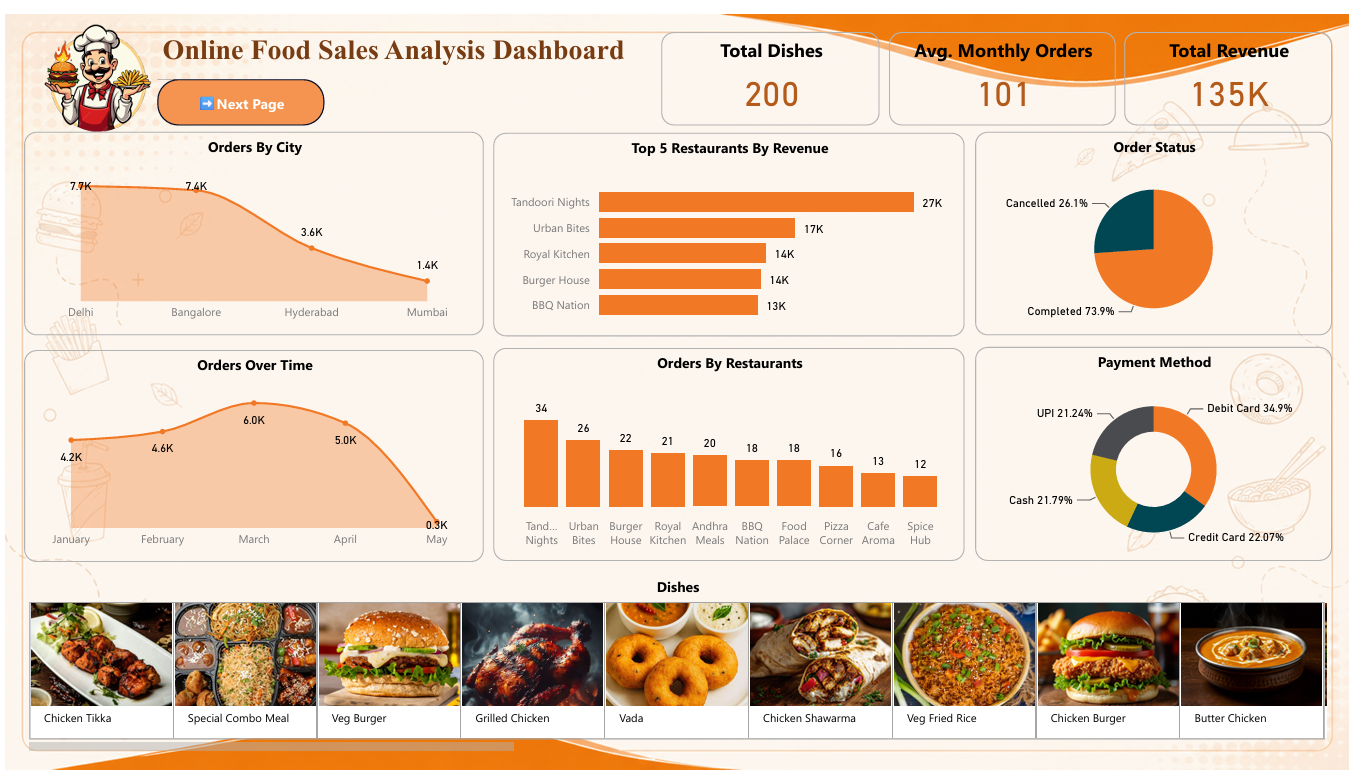

What the dashboard file says about the page in this screenshot:
{"tool":"powerbi","page":{"name":"🏠 Home","canvas":[1280,720],"ordinal":0},"visuals":[{"type":"lineChart","title":"Orders Over Time","fields":{"Y":["Sum(orders.order_id)"],"Category":["orders.order_date.Variation.Date Hierarchy.Year","orders.order_date.Variation.Date Hierarchy.Quarter","orders.order_date.Variation.Date Hierarchy.Month","orders.order_date.Variation.Date Hierarchy.Day"]},"box":[18.1,319.7,437.9,202.7],"z":0},{"type":"pieChart","title":"Order  Status","fields":{"Category":["orders.order_status"],"Y":["Sum(orders.order_id)"]},"box":[924.1,112.2,340.2,194.2],"z":1000},{"type":"donutChart","title":"Payment Method ","fields":{"Y":["Sum(orders.order_id)"],"Category":["orders.payment_method"]},"box":[924.1,317.3,340.2,203.9],"z":2000},{"type":"barChart","title":"Top 5 Restaurants By Revenue","fields":{"Category":["restaurants.restaurant_name"],"Y":["Sum(orders.order_amount)"]},"box":[465,112.5,448.8,194.2],"z":3000},{"type":"columnChart","title":"Orders By Restaurants","fields":{"Y":["CountNonNull(orders.order_id)"],"Category":["restaurants.restaurant_name"]},"box":[465,317.5,448.8,203.8],"z":4000},{"type":"lineChart","title":"Orders By City","fields":{"Category":["restaurants.city"],"Y":["Sum(orders.order_id)"]},"box":[18.1,112.2,437.9,194.2],"z":5000},{"type":"advancedSlicerVisual","title":"Dishes","fields":{"Values":["orders.dish_url"],"Label":["Min(orders.dish)"]},"box":[18.1,536.9,1246.3,172.5],"z":6000},{"type":"textbox","box":[144.8,14.5,480.2,47.1],"z":7000},{"type":"card","title":"Total Revenue","fields":{"Values":["Sum(orders.order_amount)"]},"box":[1066.3,16.9,197.9,89.3],"z":8000},{"type":"card","title":"Avg. Monthly Orders","fields":{"Values":["Avg(orders.order_id)"]},"box":[841.9,16.9,216,89.3],"z":9000},{"type":"card","title":"Total Dishes","fields":{"Values":["CountNonNull(orders.dish)"]},"box":[624.7,16.9,208.7,89.3],"z":10000},{"type":"image","box":[0,0,177.3,127.2],"z":11000},{"type":"pageNavigator","box":[144.8,61.5,159.3,44.6],"z":12000}]}

Visuals, with their boxes in screenshot pixels (x1, y1, x2, y2), scaled from the page's 1280x720 canvas onto the 1357x776 screenshot:
"Orders Over Time" lineChart: BBox(19, 345, 483, 563)
"Order  Status" pieChart: BBox(980, 121, 1340, 330)
"Payment Method " donutChart: BBox(980, 342, 1340, 562)
"Top 5 Restaurants By Revenue" barChart: BBox(493, 121, 969, 331)
"Orders By Restaurants" columnChart: BBox(493, 342, 969, 562)
"Orders By City" lineChart: BBox(19, 121, 483, 330)
"Dishes" advancedSlicerVisual: BBox(19, 579, 1340, 765)
textbox: BBox(154, 16, 663, 66)
"Total Revenue" card: BBox(1130, 18, 1340, 114)
"Avg. Monthly Orders" card: BBox(893, 18, 1122, 114)
"Total Dishes" card: BBox(662, 18, 884, 114)
image: BBox(0, 0, 188, 137)
pageNavigator: BBox(154, 66, 322, 114)
